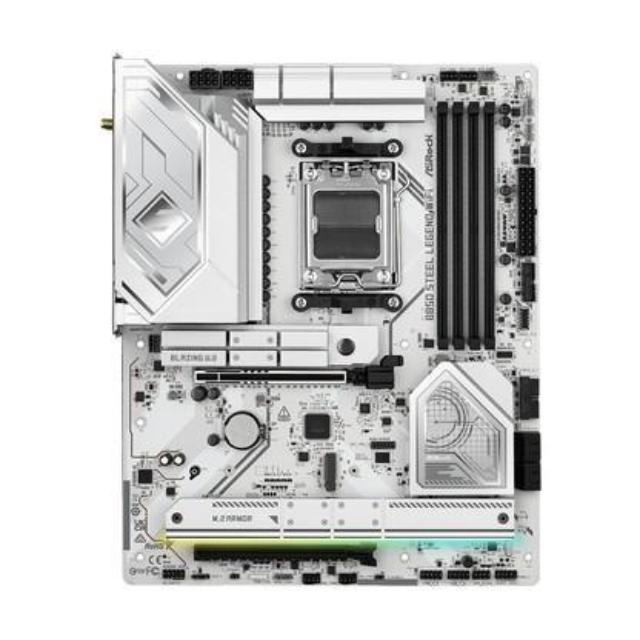Mainboard: (97, 45, 554, 608)
